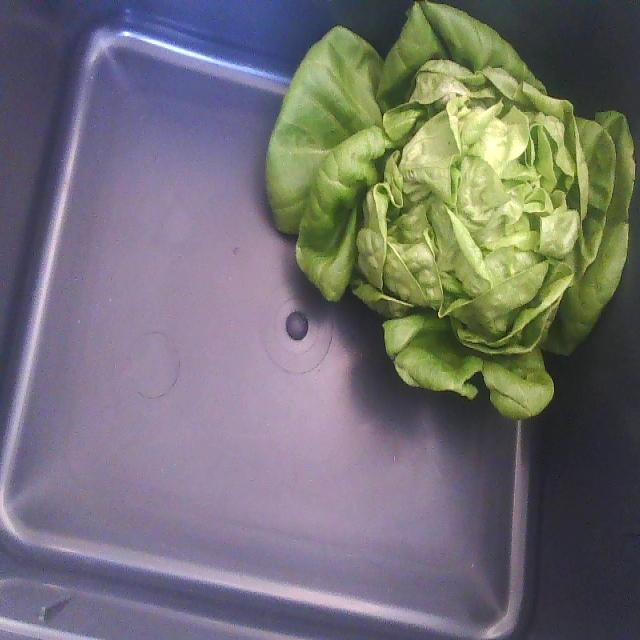Lettuce-plant: (266, 0, 634, 419)
